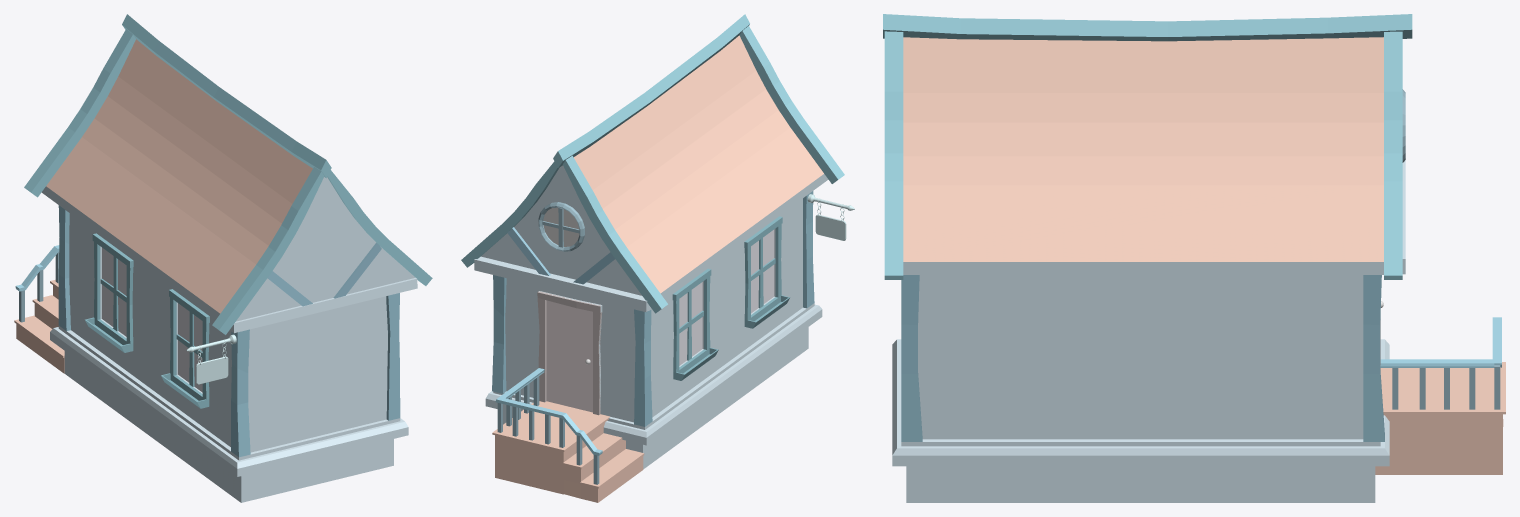
File: renkliödev.fbx
3 views of the same model, side by side, from view 1: azimuth 30°, elevation 25°; view 2: azimuth 150°, elevation 25°; view 3: azimuth 270°, elevation 25° (orthographic). The views are drawn at different scales.
Parts seen in each view (by area): view 1: Ev, Çatı, ÇatıKenarı, EvKenarı, Pencere, PencereCamı, Merdiven, Tabela, ÇatıKenarlıkları, MerdivenBaşlığı, MerdivenKenarı; view 2: Ev, Çatı, ÇatıKenarı, Merdiven, Kapı, Pencere, EvKenarı, PencereCamı, KapıKenarı, MerdivenBaşlığı, MerdivenKenarı, ÇatıPenceresi (+3 smaller); view 3: Ev, Çatı, ÇatıKenarı, Merdiven, EvKenarı, MerdivenKenarı, MerdivenBaşlığı.
Part boxes in pixels (box(x1,y1,x2,y2)): Ev: box(41, 177, 417, 502); Çatı: box(46, 39, 312, 313); ÇatıKenarı: box(24, 14, 432, 334); EvKenarı: box(58, 205, 400, 457); Pencere: box(85, 233, 209, 408); PencereCamı: box(102, 247, 202, 392); Merdiven: box(14, 279, 64, 373); Tabela: box(186, 334, 236, 384); ÇatıKenarlıkları: box(267, 242, 381, 306); MerdivenBaşlığı: box(19, 252, 59, 322); MerdivenKenarı: box(15, 245, 59, 291); Ev: box(474, 165, 828, 469); Çatı: box(573, 35, 823, 293); ÇatıKenarı: box(461, 14, 844, 313); Merdiven: box(492, 401, 644, 502); Kapı: box(546, 300, 592, 412); Pencere: box(672, 216, 790, 380); EvKenarı: box(492, 191, 814, 426); PencereCamı: box(679, 229, 774, 365); KapıKenarı: box(537, 291, 602, 415); MerdivenBaşlığı: box(497, 376, 599, 484); MerdivenKenarı: box(495, 368, 602, 455); ÇatıPenceresi: box(538, 202, 584, 251); Ev: box(892, 160, 1405, 502); Çatı: box(903, 37, 1383, 261); ÇatıKenarı: box(883, 14, 1412, 279); Merdiven: box(1375, 362, 1505, 474); EvKenarı: box(901, 275, 1384, 441); MerdivenKenarı: box(1380, 317, 1501, 367); MerdivenBaşlığı: box(1392, 365, 1500, 409).
Size of the model in its own units: 384 by 517 by 664.
